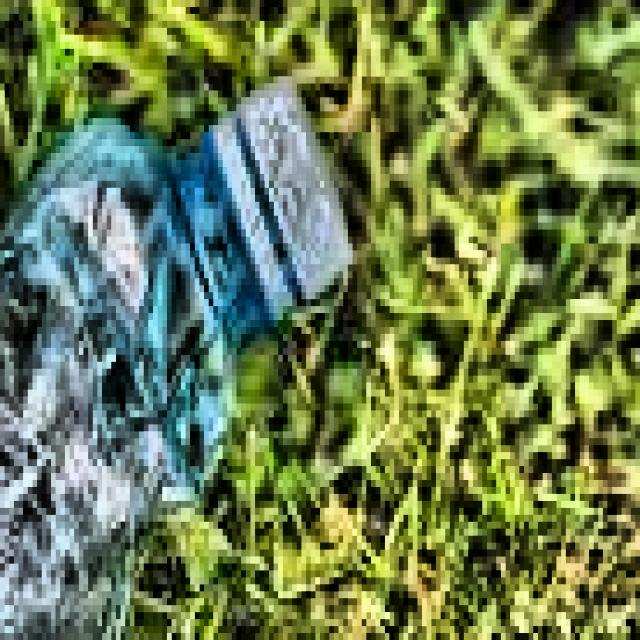plastic: (0, 48, 408, 640)
